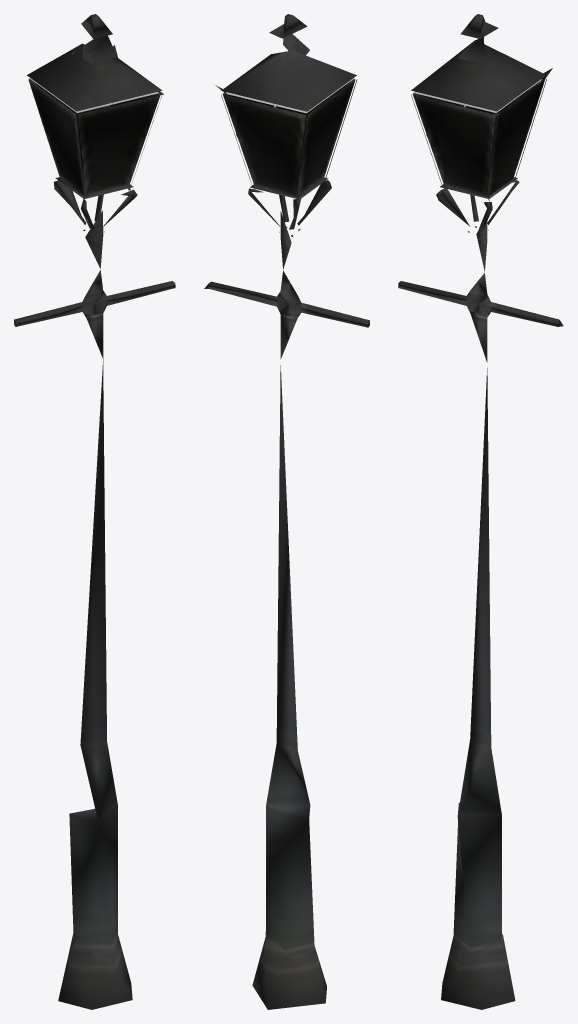
File: street_lamp_01_lod.glb
3 views of the same model, side by side, from view 1: azimuth 30°, elevation 25°; view 2: azimuth 150°, elevation 25°; view 3: azimuth 330°, elevation 25° (orthographic).
Parts seen in each view (by area): view 1: street_lamp_01; view 2: street_lamp_01; view 3: street_lamp_01.
Boxes of the visible parts, bbox=[...] form: street_lamp_01: bbox=[14, 14, 175, 1009]; street_lamp_01: bbox=[204, 14, 369, 1009]; street_lamp_01: bbox=[398, 14, 563, 1009].
Size of the model in its own units: 0.6583 by 3.78 by 0.3705.
Materials: 2 (2 with a texture image).
